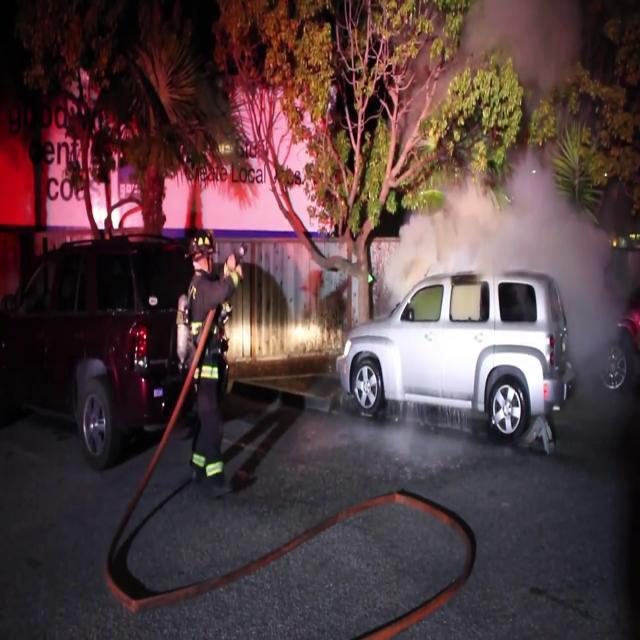Smoke: (394, 145, 622, 315), (462, 0, 590, 90)
